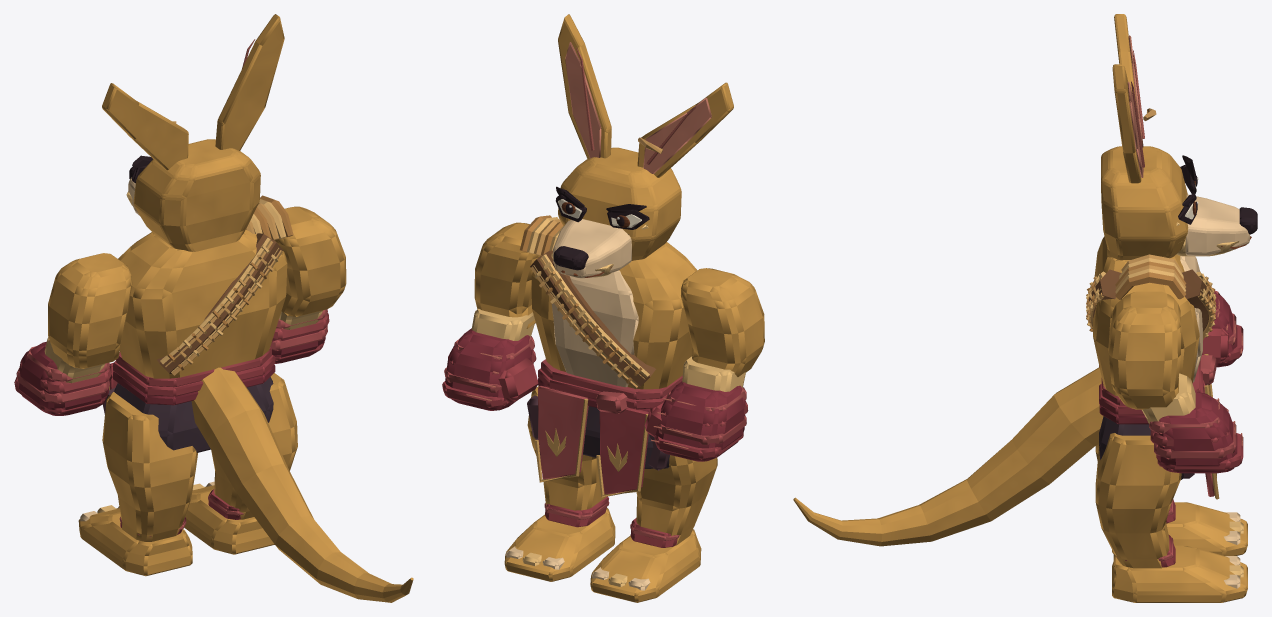
File: Reedguard_Festival_Shell.glb
The picture shows the model from 3 angles, left to right: view 1: azimuth 30°, elevation 25°; view 2: azimuth 150°, elevation 25°; view 3: azimuth 270°, elevation 25°; orthographic projection. The views are drawn at different scales.
Parts seen in each view (by area): view 1: Torso_Shell, Head_Shell, Tail_Shell, Left_Leg_Shell, Left_Arm_Shell, Right_Arm_Shell, Right_Leg_Shell; view 2: Torso_Shell, Head_Shell, Left_Arm_Shell, Right_Arm_Shell, Left_Leg_Shell, Right_Leg_Shell; view 3: Head_Shell, Tail_Shell, Right_Leg_Shell, Right_Arm_Shell, Torso_Shell, Left_Leg_Shell, Left_Arm_Shell.
Part boxes in pixels (x1,y1,x2,y2): Torso_Shell: (102,195,293,452); Head_Shell: (102,14,284,251); Tail_Shell: (191,367,413,602); Left_Leg_Shell: (78,392,197,576); Left_Arm_Shell: (14,253,132,415); Right_Arm_Shell: (270,206,346,363); Right_Leg_Shell: (184,373,297,554); Torso_Shell: (520,215,697,497); Head_Shell: (551,14,733,278); Left_Arm_Shell: (644,268,764,461); Right_Arm_Shell: (442,222,540,410); Left_Leg_Shell: (590,455,717,602); Right_Leg_Shell: (504,386,615,581); Head_Shell: (1101,14,1257,260); Tail_Shell: (793,367,1103,546); Right_Leg_Shell: (1095,433,1247,602); Right_Arm_Shell: (1109,291,1243,473); Torso_Shell: (1086,236,1219,499); Left_Leg_Shell: (1095,444,1247,555); Left_Arm_Shell: (1202,290,1243,367).
Bounding box in the file's own units: 2.79 × 4.92 × 3.88.
Materials: 1 (1 with a texture image).
